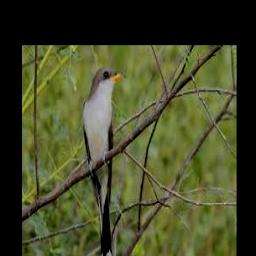Cuckoo: (82, 68, 127, 256)
